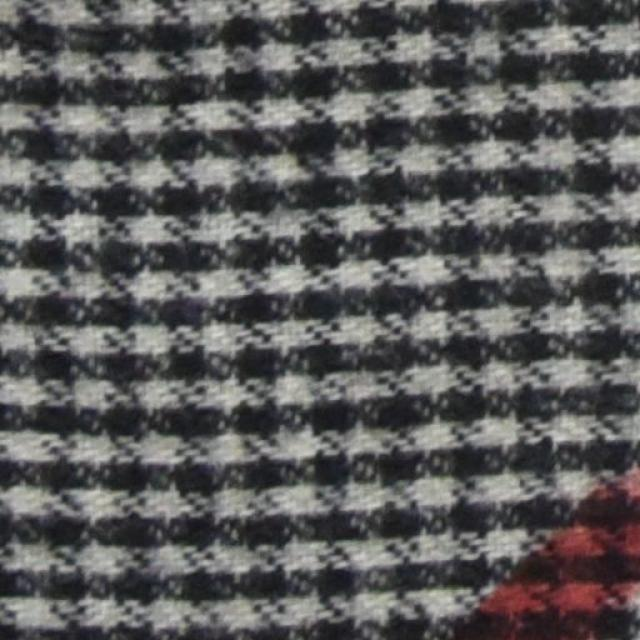Stain: (447, 448, 639, 639)
